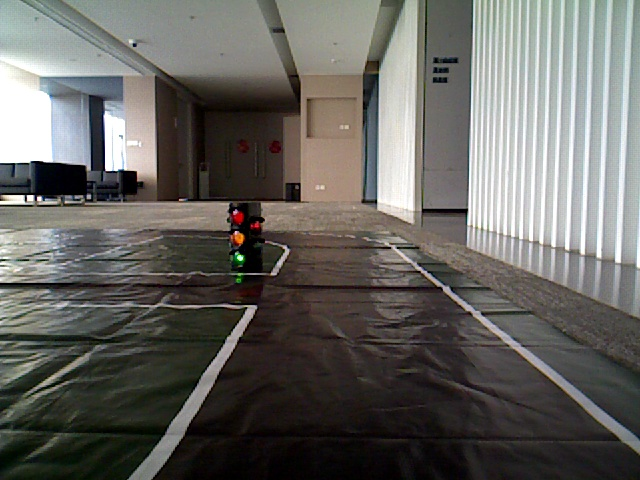green: (230, 206, 249, 264)
